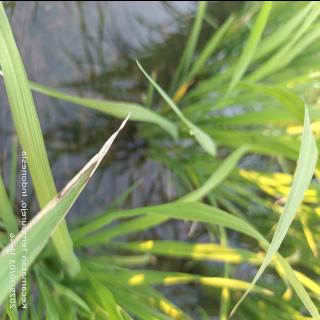Blast: (50, 125, 124, 216)
